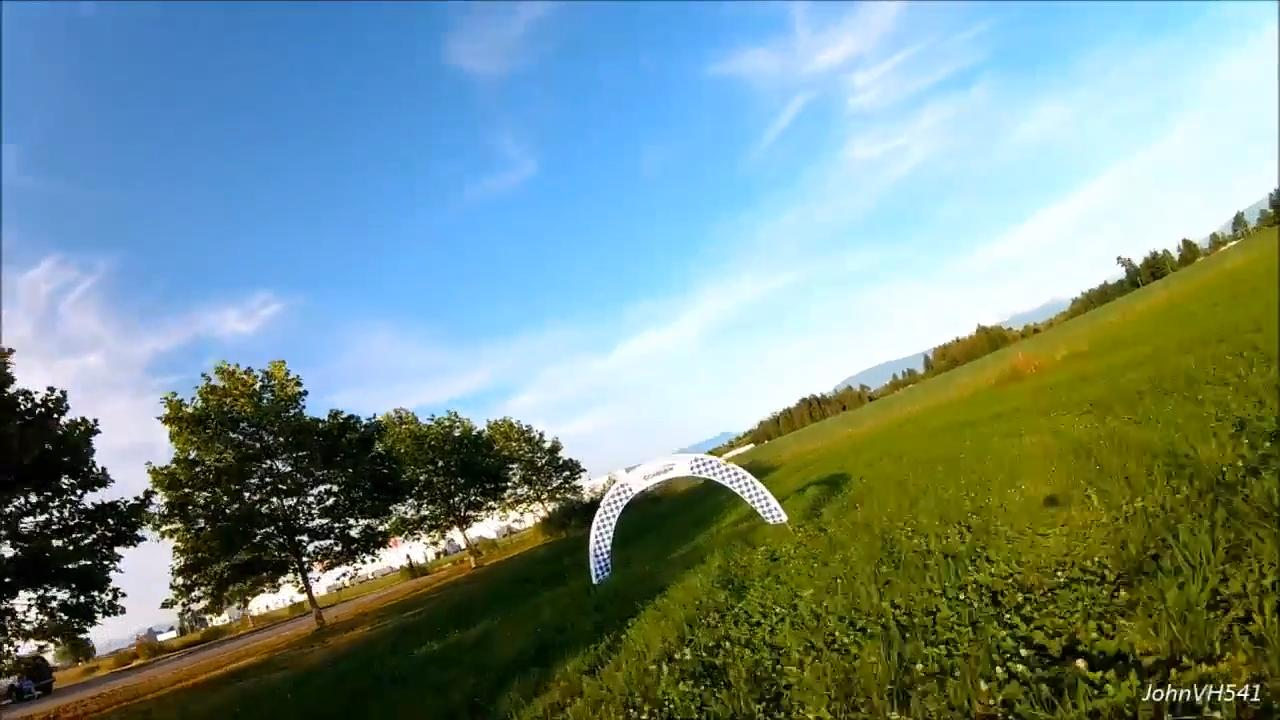gate: (588, 452, 789, 589)
